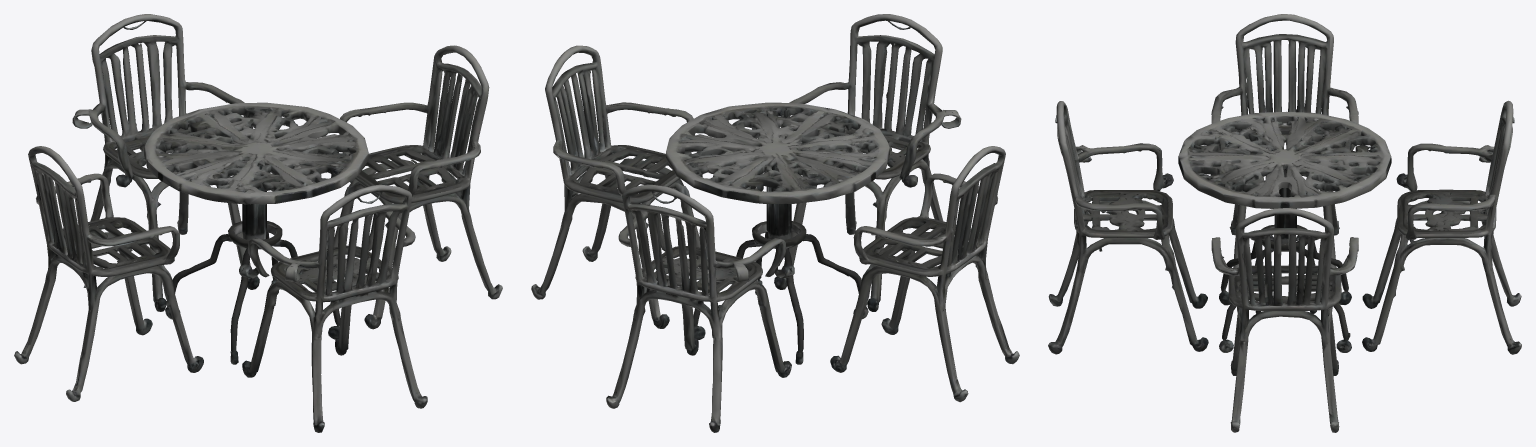
The model's file is plaza-outdoor-seating.glb.
The picture shows the model from 3 angles, left to right: view 1: azimuth 30°, elevation 25°; view 2: azimuth 150°, elevation 25°; view 3: azimuth 270°, elevation 25°; orthographic projection. The views are drawn at different scales.
Visible parts, largest first — view 1: tripo_node_511d70a3-3414-4476-8e37-7b99a9fe108b; view 2: tripo_node_511d70a3-3414-4476-8e37-7b99a9fe108b; view 3: tripo_node_511d70a3-3414-4476-8e37-7b99a9fe108b.
Part boxes in pixels (box(x1,y1,x2,y2)): tripo_node_511d70a3-3414-4476-8e37-7b99a9fe108b: box(14, 14, 502, 432); tripo_node_511d70a3-3414-4476-8e37-7b99a9fe108b: box(531, 14, 1019, 432); tripo_node_511d70a3-3414-4476-8e37-7b99a9fe108b: box(1048, 14, 1521, 432).
Size of the model in its own units: 2.95 by 1.5 by 2.89.
1 material, 1 textured.
